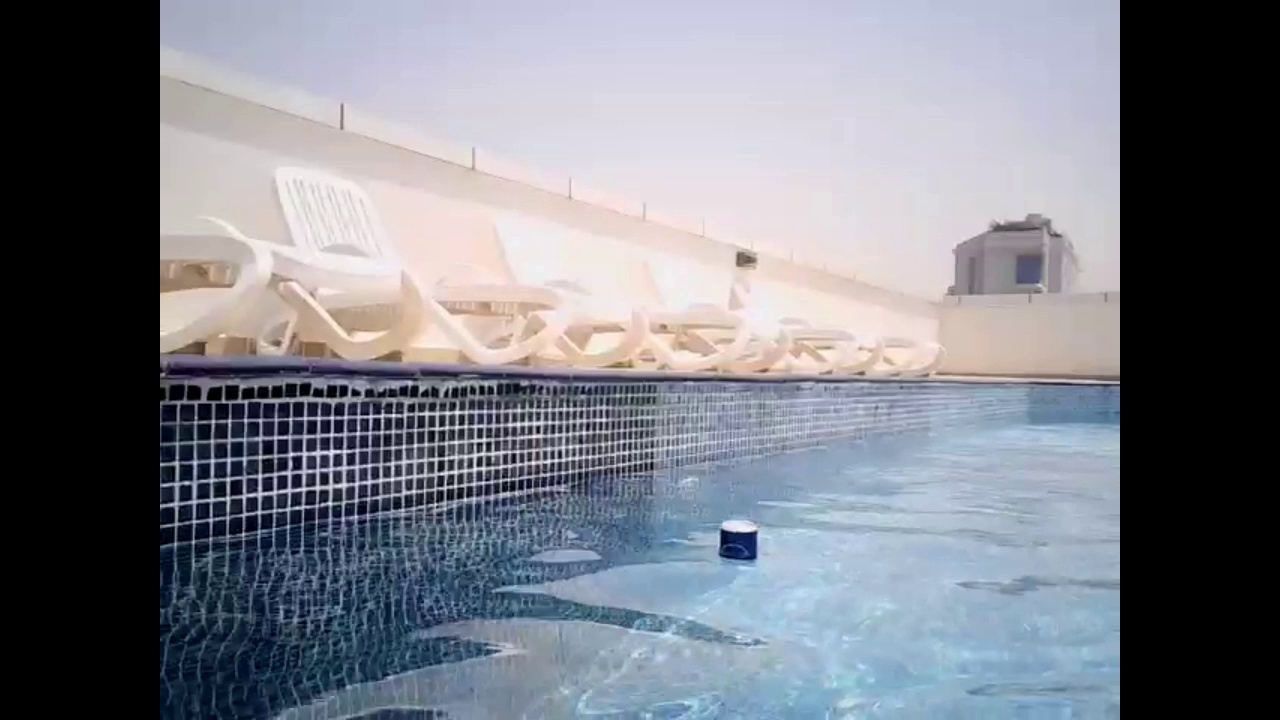debris: (710, 515, 769, 575)
